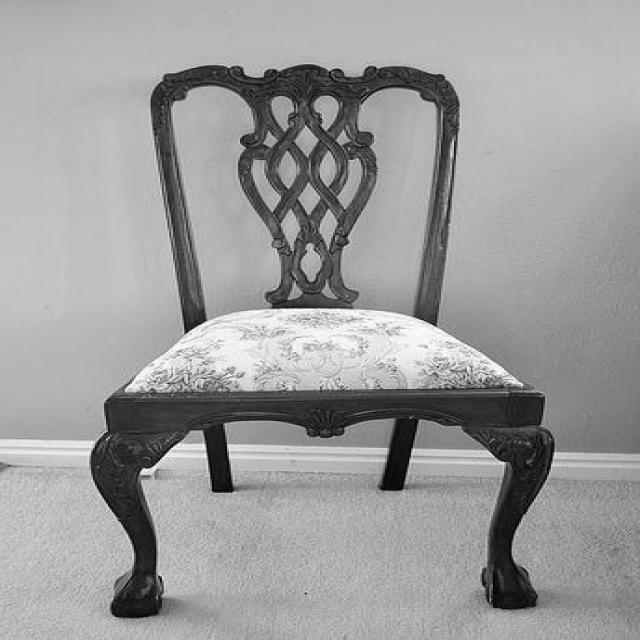chair: (86, 66, 557, 625)
